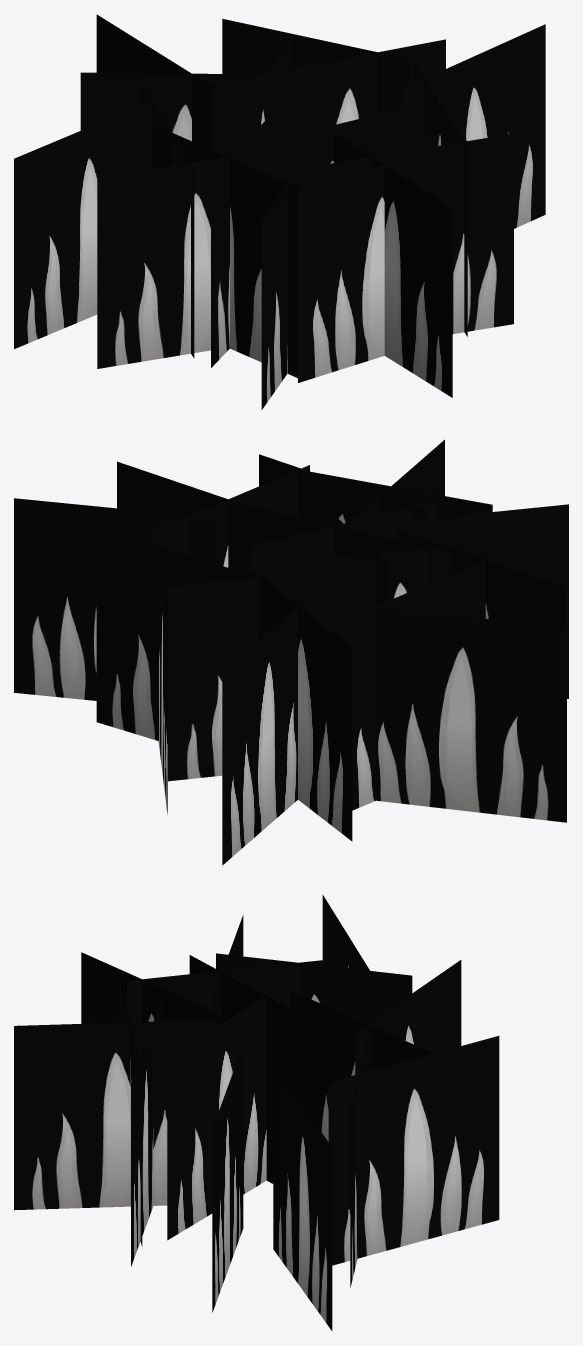
The model's file is New_grassMesh 1.fbx.
3 views of the same model, one above another, from view 1: azimuth 30°, elevation 25°; view 2: azimuth 150°, elevation 25°; view 3: azimuth 270°, elevation 25° (orthographic). The views are drawn at different scales.
Visible parts, largest first — view 1: Grass; view 2: Grass; view 3: Grass.
Part boxes in pixels (x1,y1,x2,y2): Grass: (14, 14, 545, 409); Grass: (14, 439, 568, 865); Grass: (14, 895, 499, 1330).
Bounding box in the file's own units: 239 × 81 × 221.
